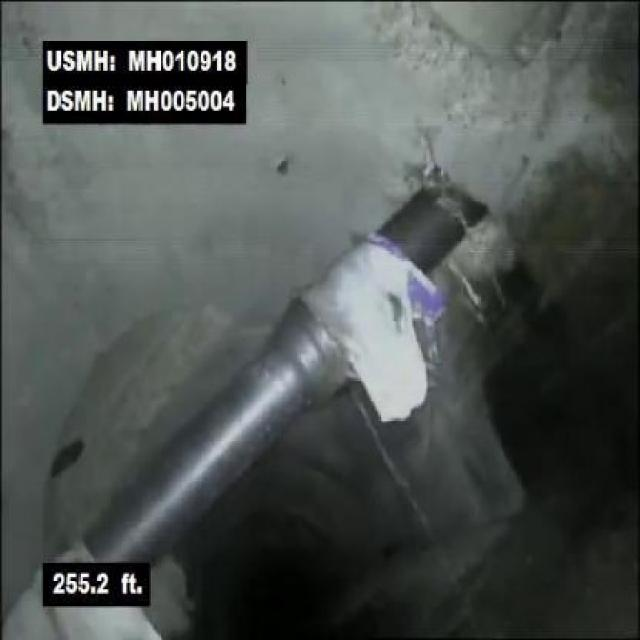Utility intrusion: (63, 163, 499, 562)
